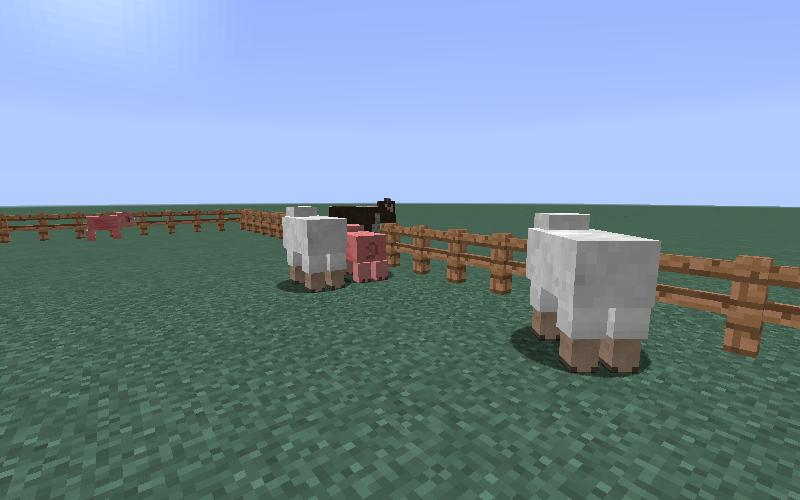cow: (330, 198, 397, 230)
pig: (348, 224, 388, 283), (82, 210, 136, 244)
sheep: (523, 210, 663, 379), (281, 204, 349, 295)
